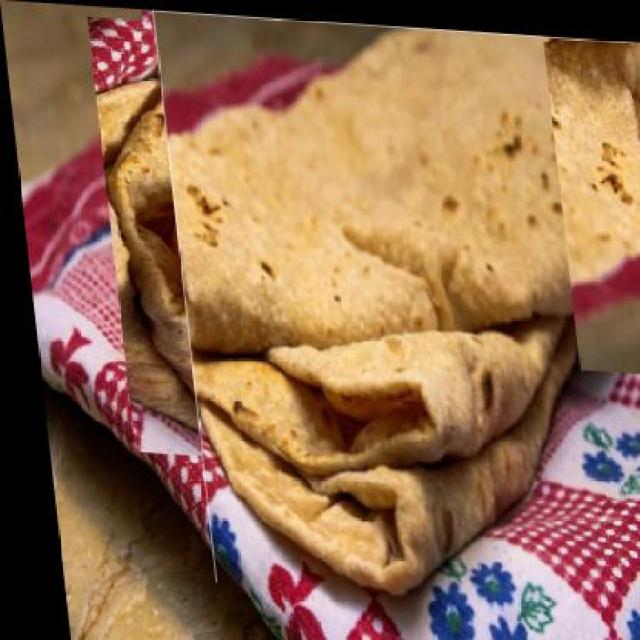chapati: (153, 9, 595, 602), (92, 10, 578, 481), (140, 6, 638, 369)
